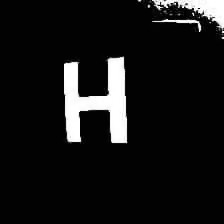LTR_H: (56, 50, 133, 148)
